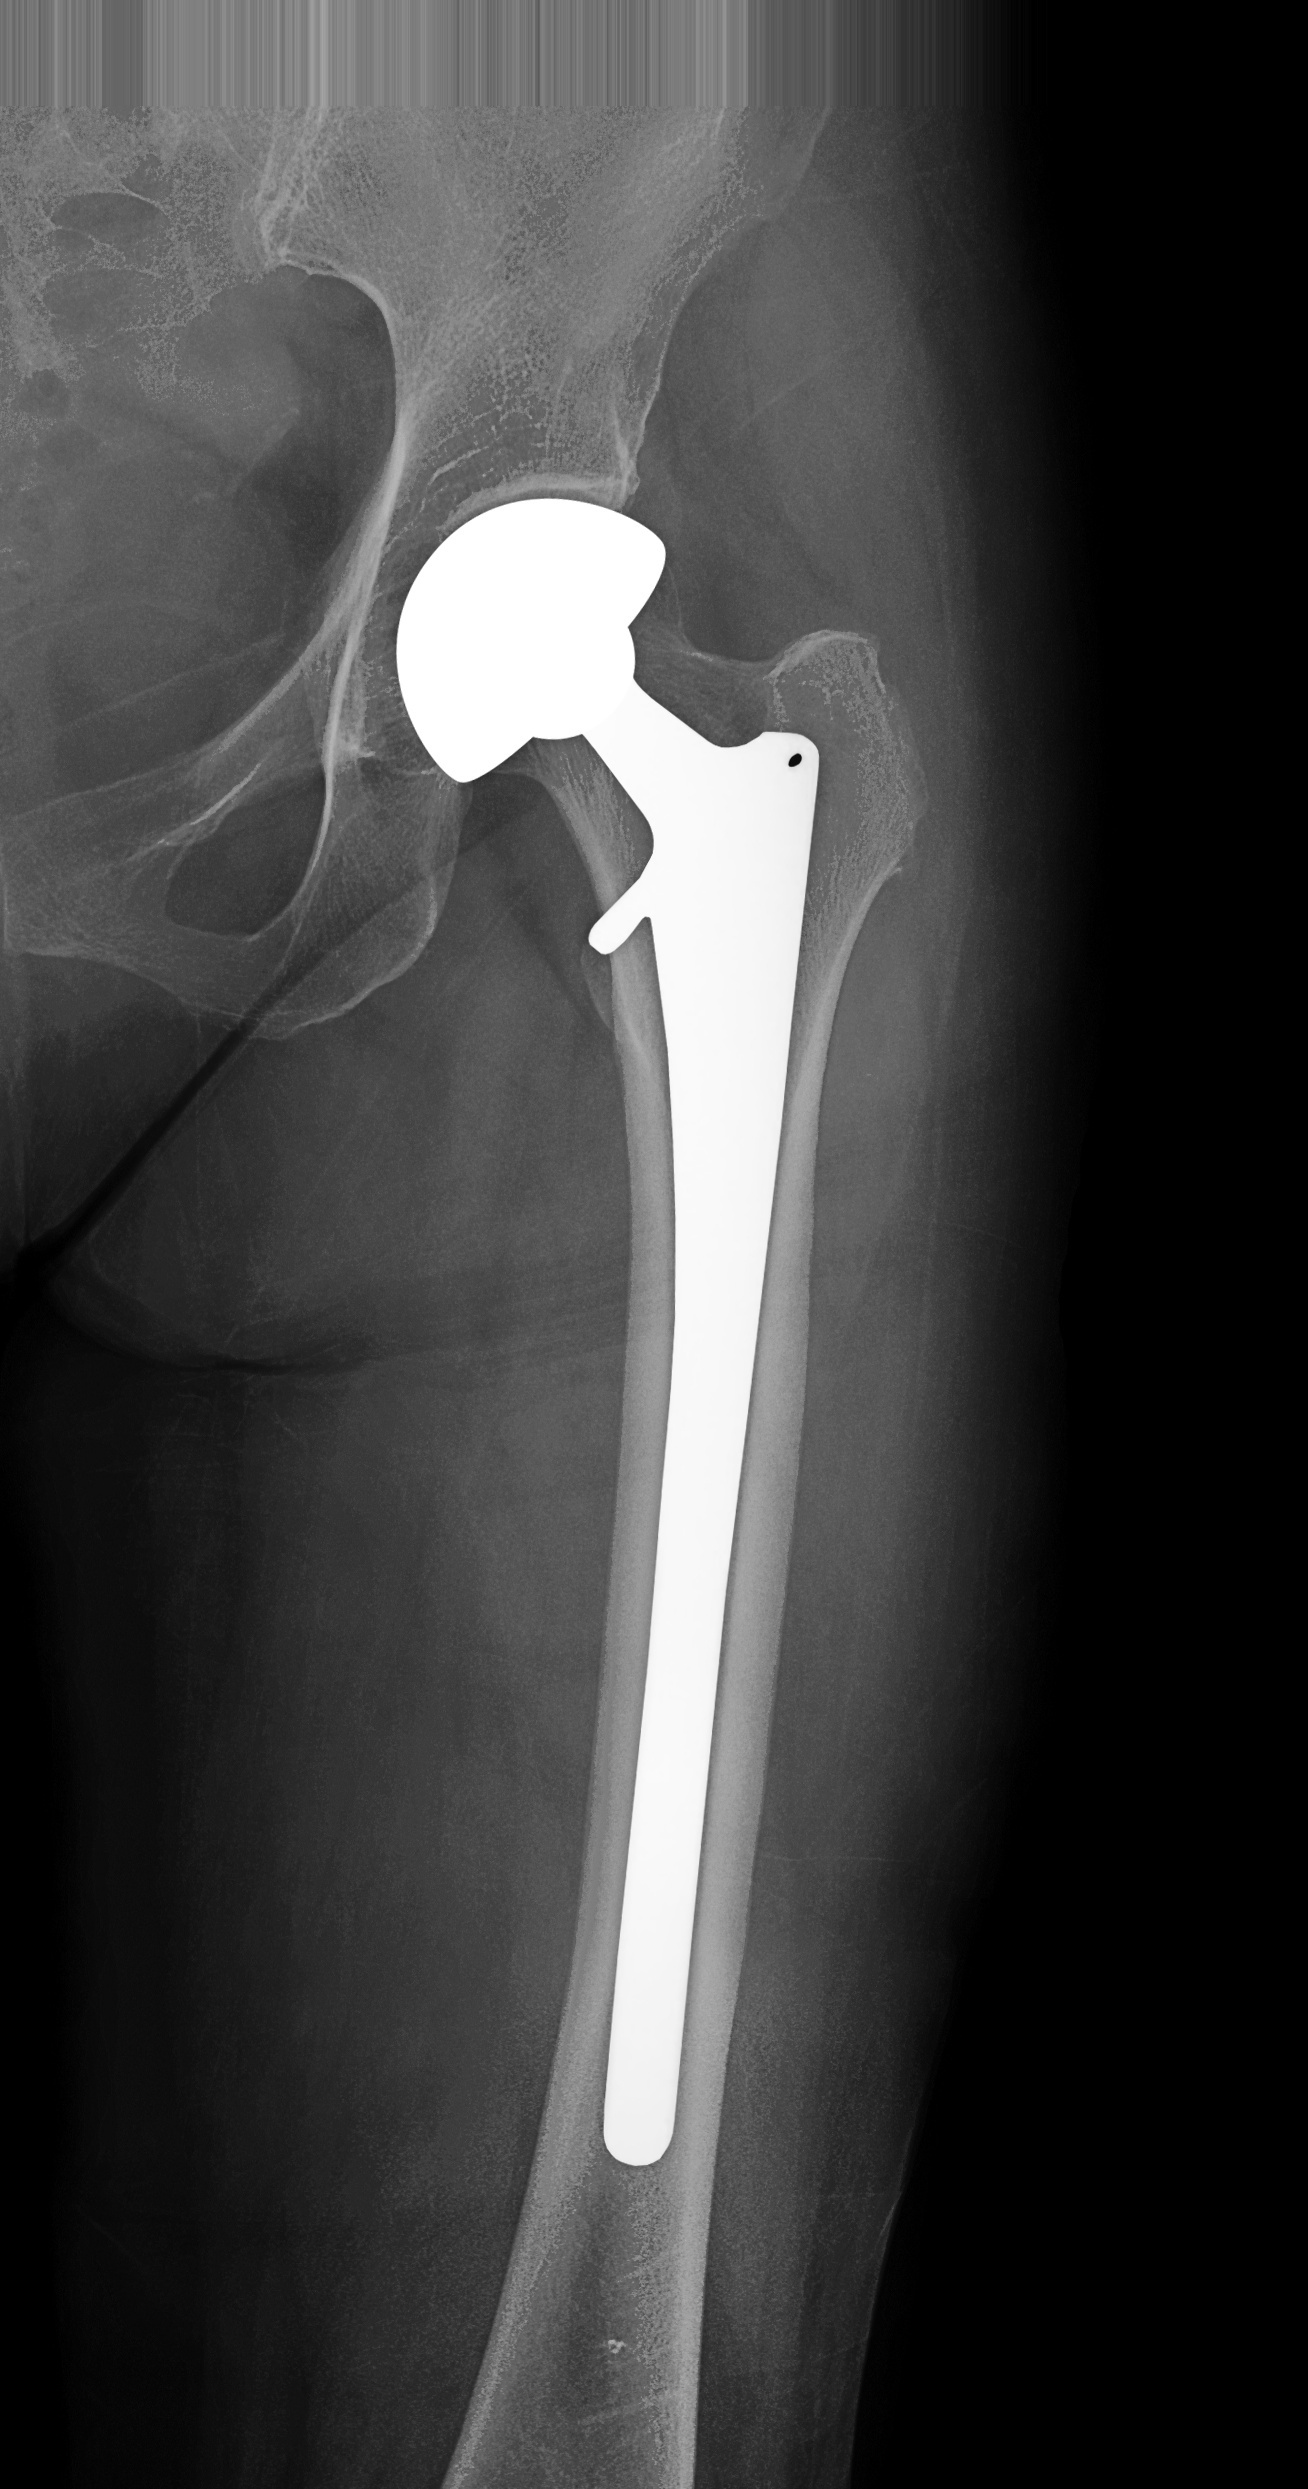Hip - Bias - Zimmer: (387, 479, 833, 2227)
